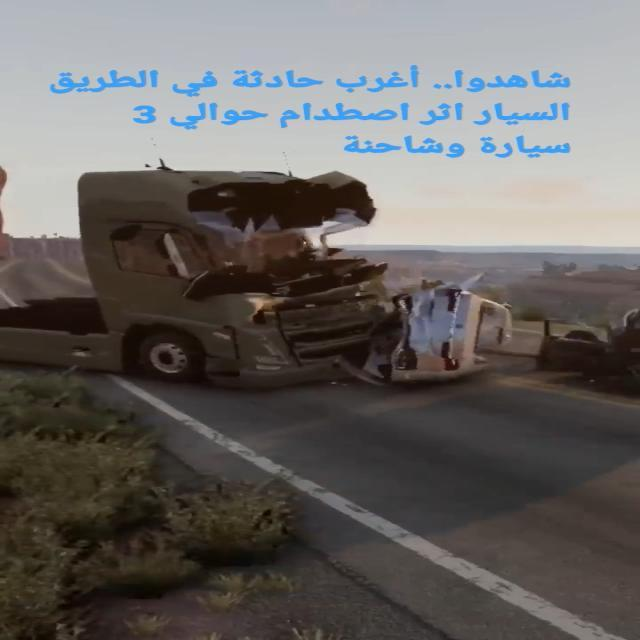accident: (39, 170, 534, 390)
